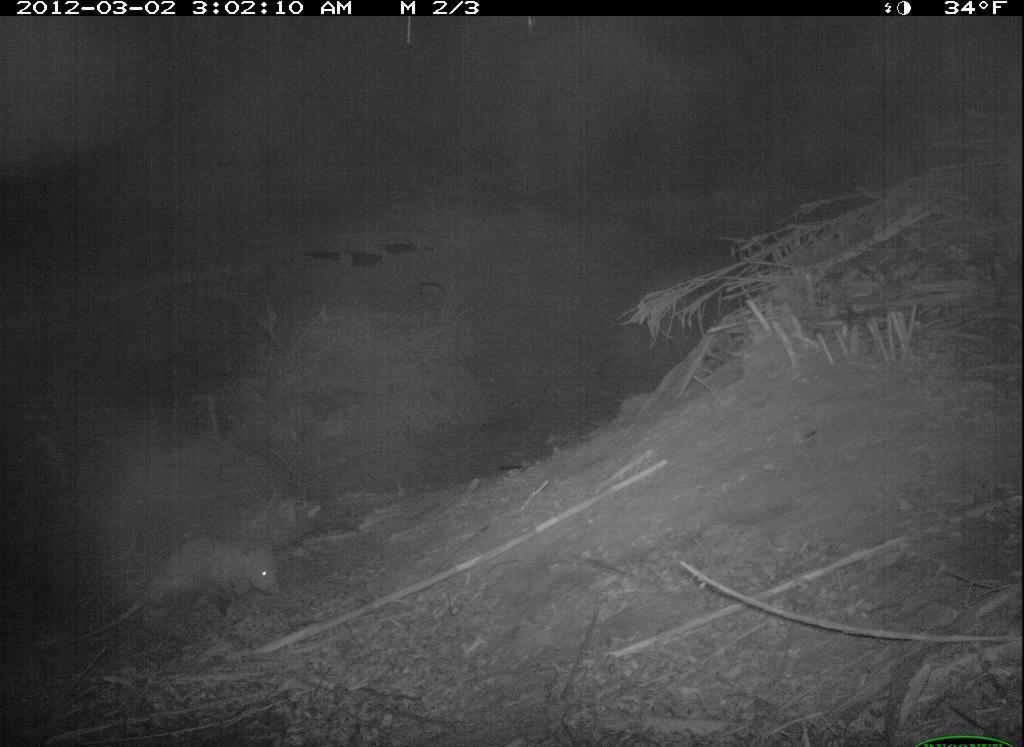opossum: (70, 531, 285, 645)
